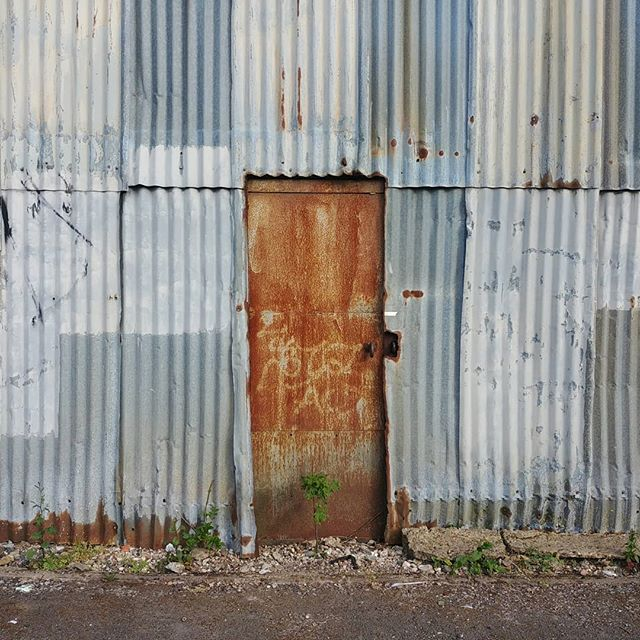building: (1, 1, 632, 543)
door: (229, 173, 396, 572)
